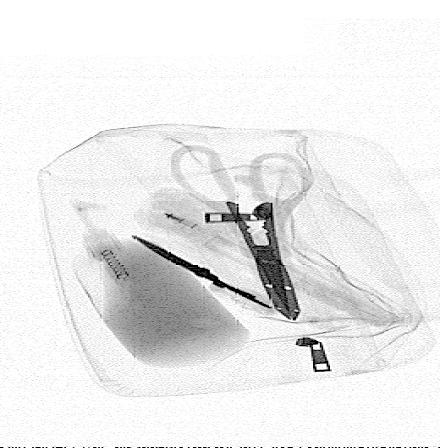Scissors: (164, 140, 316, 323), (124, 231, 287, 316)
